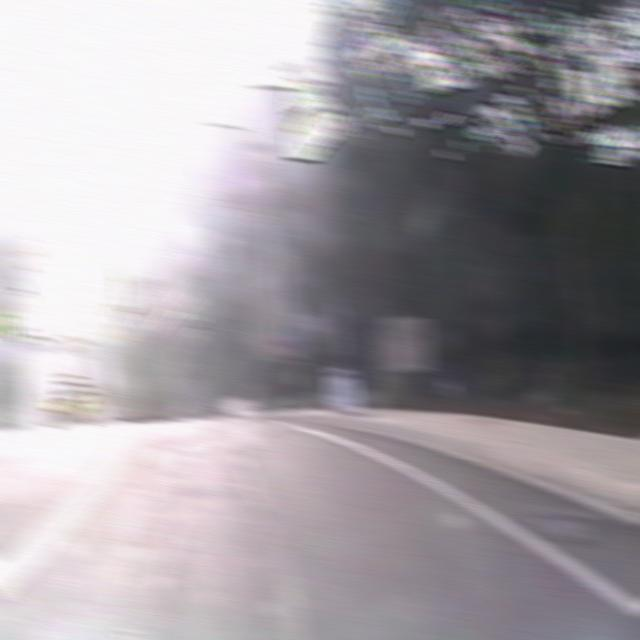stop_sign: (269, 337, 292, 360)
